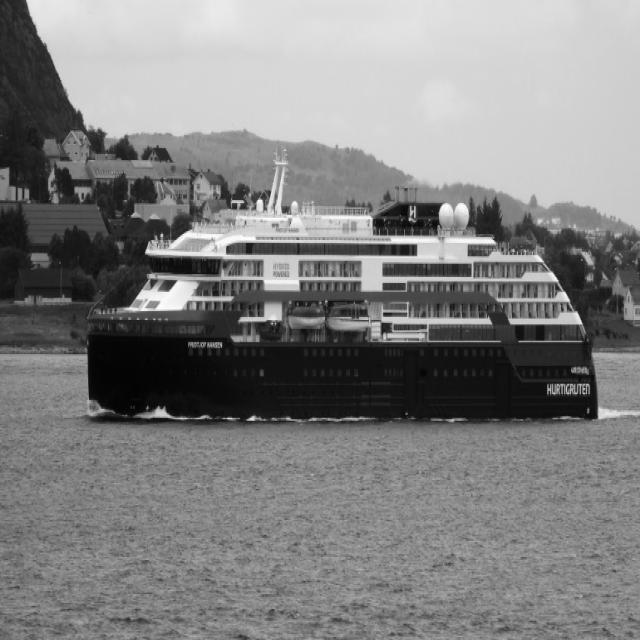cruises: (75, 145, 608, 434)
